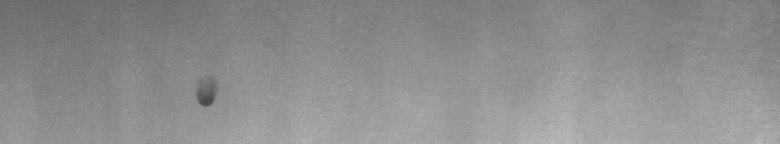fi: (192, 83, 220, 112)
